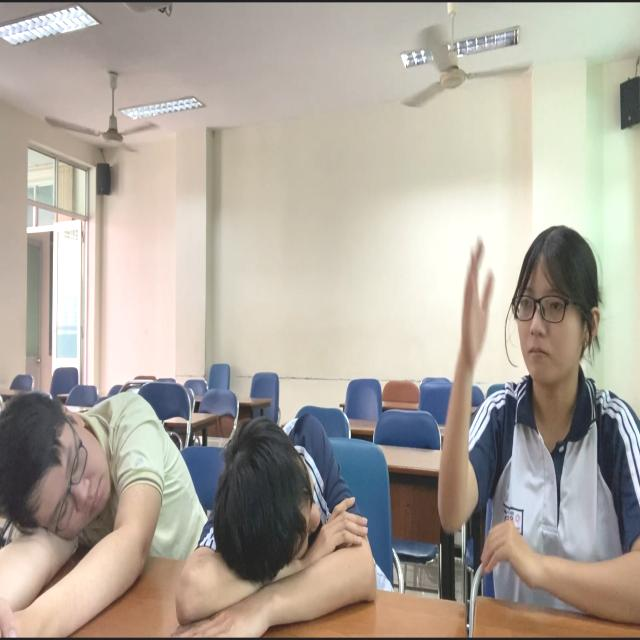raise_hand: (417, 181, 640, 640)
sleep: (1, 337, 197, 640), (179, 391, 396, 640)
